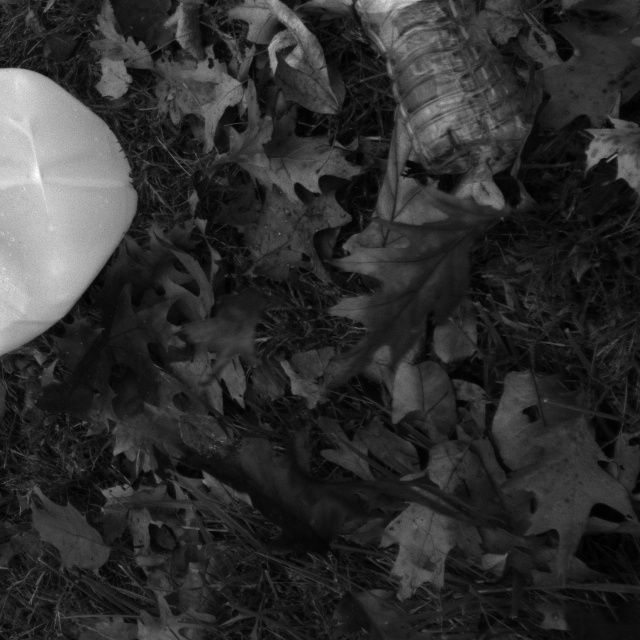bottle: (322, 0, 536, 186)
can: (0, 69, 143, 362)
